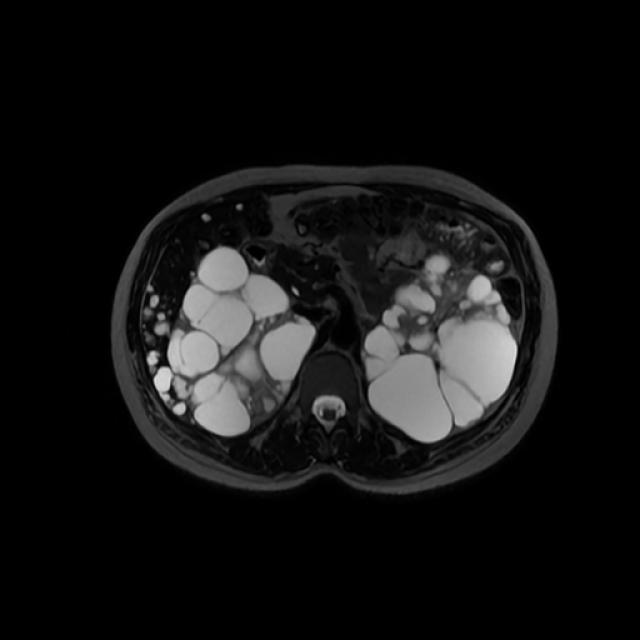sag: (171, 247, 316, 432)
sol: (364, 253, 514, 441)
